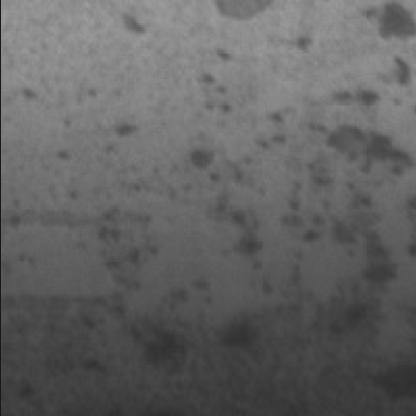pitted_surface: (175, 32, 401, 298), (4, 102, 210, 366)
